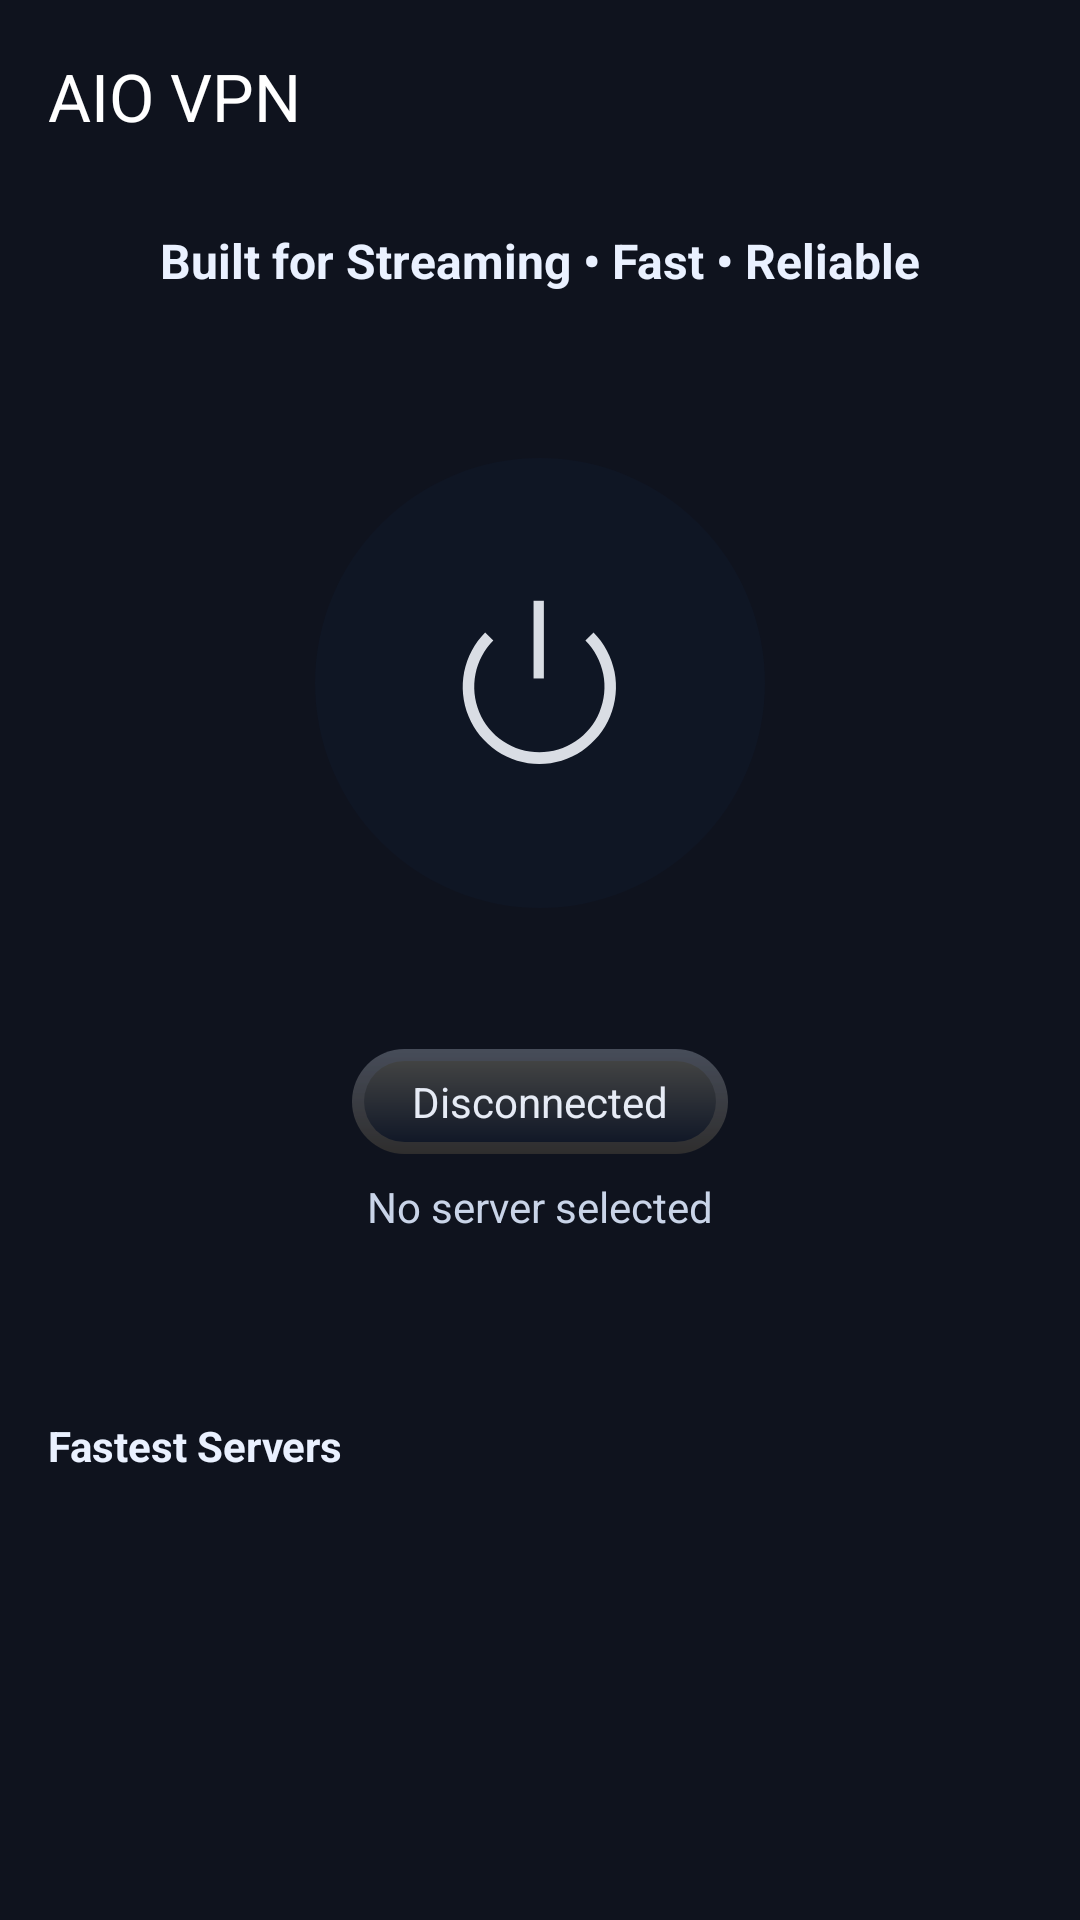

Point at icon controls on the screen. Image size 1080px×1920px, points as point (x, y).
power: point (539, 682)
